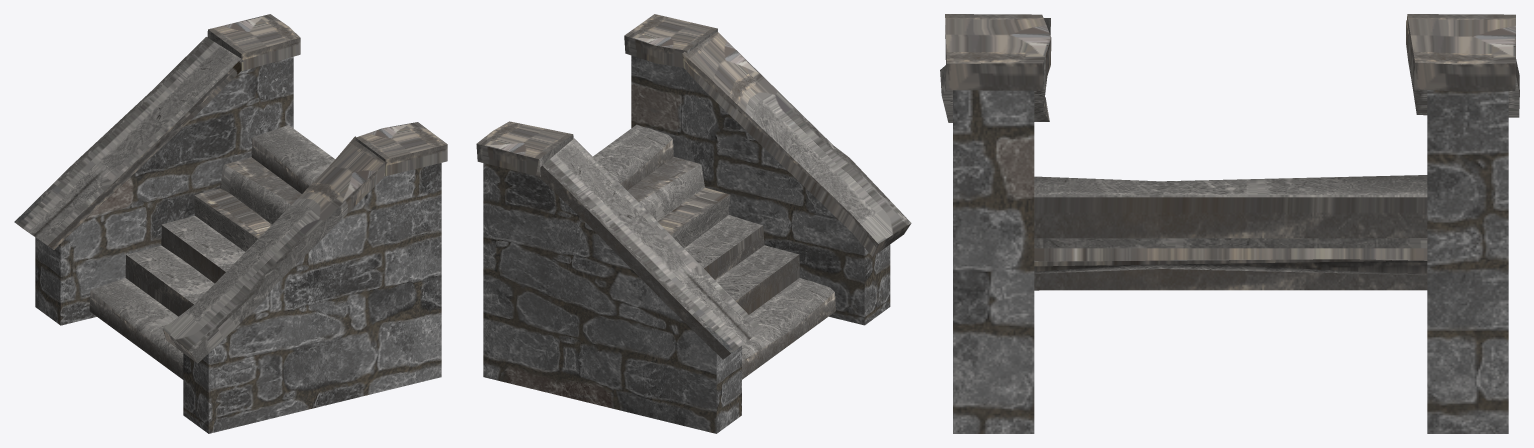
Rendered from MC_Castle_Stairs_1m_A.fbx.
3 views of the same model, side by side, from view 1: azimuth 30°, elevation 25°; view 2: azimuth 150°, elevation 25°; view 3: azimuth 270°, elevation 25° (orthographic). The views are drawn at different scales.
Visible parts, largest first — view 1: MC_Castle_Stairs_1m_A_LOD0; view 2: MC_Castle_Stairs_1m_A_LOD0; view 3: MC_Castle_Stairs_1m_A_LOD0.
Part boxes in pixels (x1,y1,x2,y2): MC_Castle_Stairs_1m_A_LOD0: (14, 14, 447, 433); MC_Castle_Stairs_1m_A_LOD0: (476, 14, 911, 433); MC_Castle_Stairs_1m_A_LOD0: (940, 14, 1519, 433).
Size of what is drawn, in the model's own units: 200 by 173 by 242.
